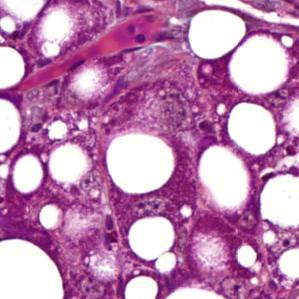steatosis: (107, 133, 174, 193), (130, 216, 176, 254)
